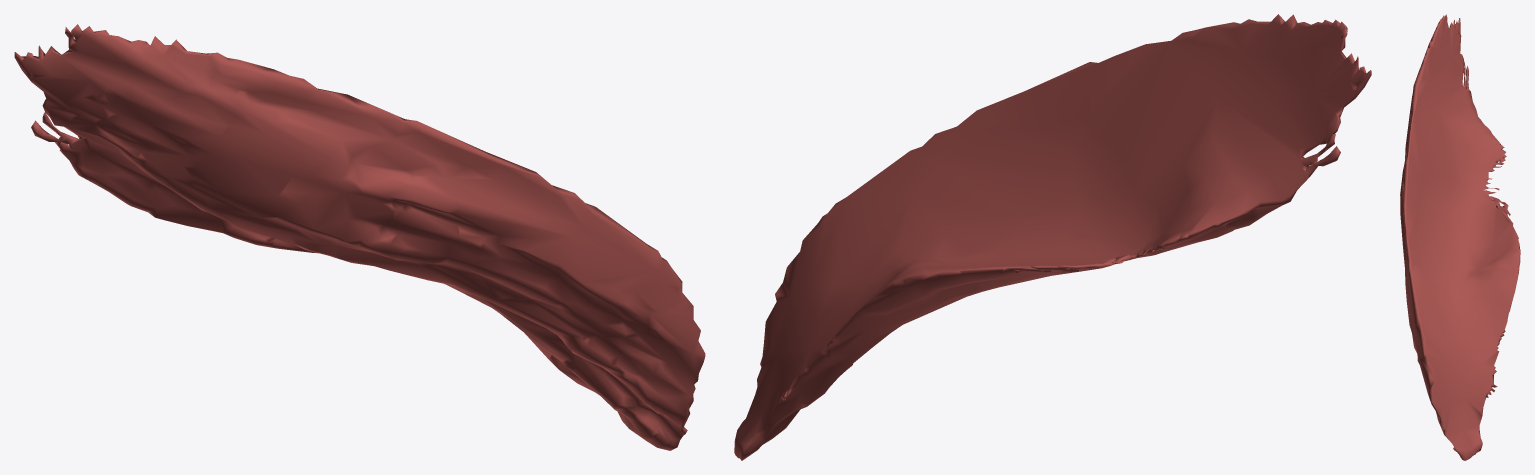
File: FMA46796.glb
The picture shows the model from 3 angles, left to right: view 1: azimuth 30°, elevation 25°; view 2: azimuth 150°, elevation 25°; view 3: azimuth 270°, elevation 25°; orthographic projection. The views are drawn at different scales.
Parts seen in each view (by area): view 1: FMA46796; view 2: FMA46796; view 3: FMA46796.
Boxes of the visible parts, x1=… form: FMA46796: x1=14, y1=24, x2=705, y2=450; FMA46796: x1=734, y1=14, x2=1371, y2=460; FMA46796: x1=1400, y1=14, x2=1520, y2=460.
Bounding box in the file's own units: 0.0219 × 0.0185 × 0.00684.
